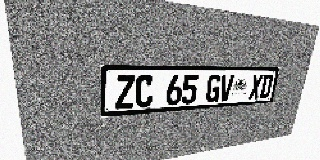5: (181, 75, 199, 104)
6: (165, 75, 183, 106)
C: (135, 75, 154, 108)
D: (259, 74, 273, 99)
G: (205, 75, 222, 103)
V: (218, 75, 234, 102)
X: (248, 74, 263, 99)
Z: (115, 75, 135, 109)
